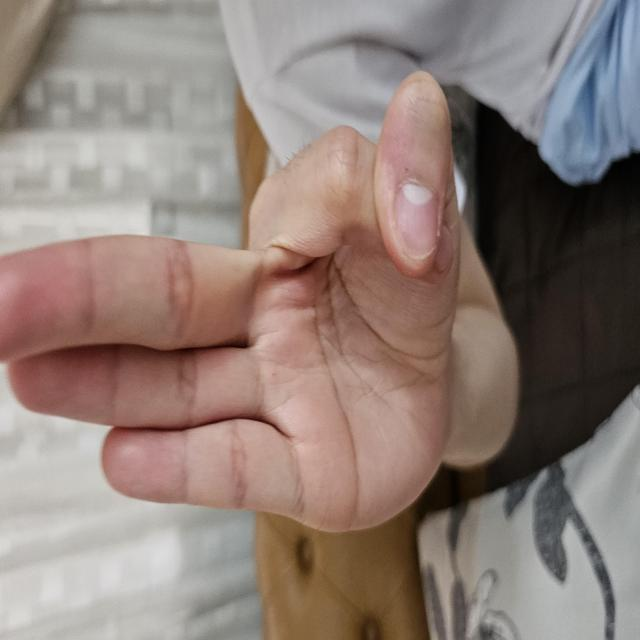F: (105, 0, 572, 466)
